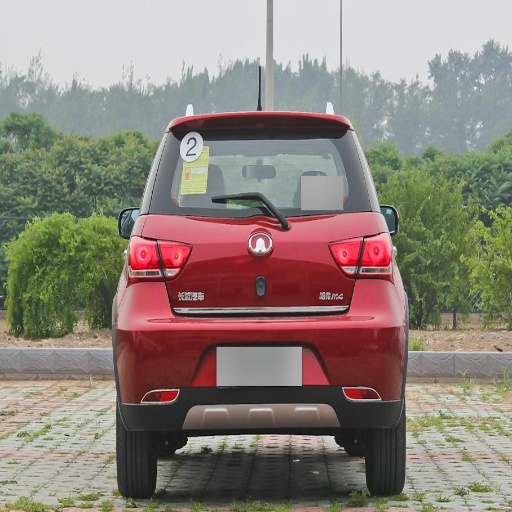back_bumper: (117, 277, 403, 431)
trunk: (141, 212, 384, 340)
